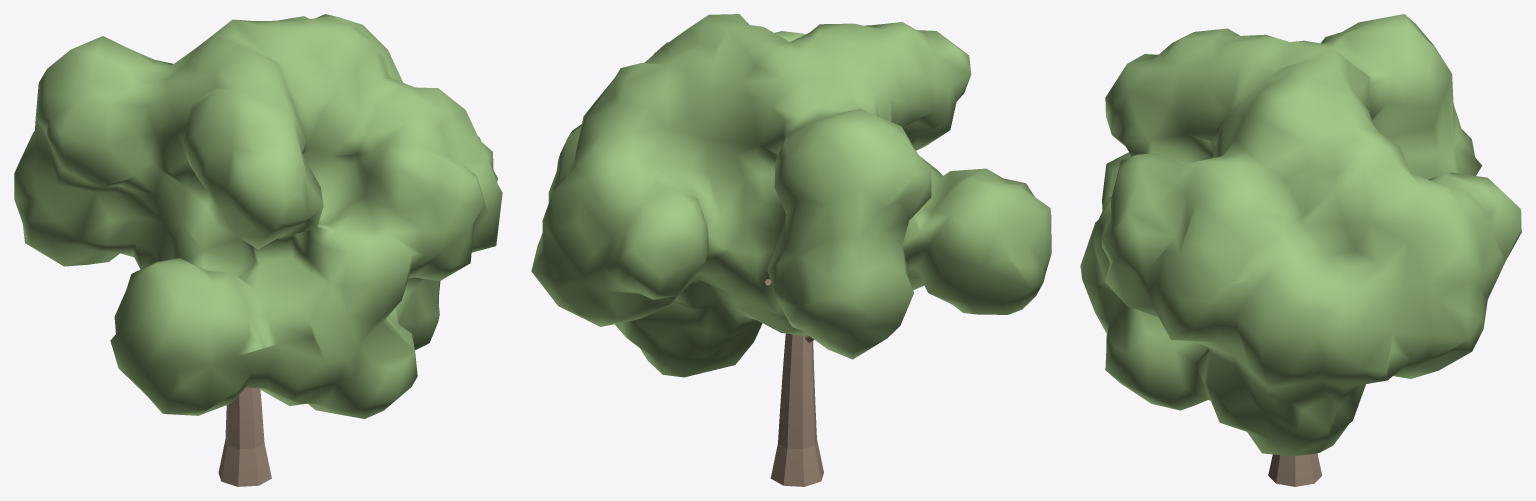
The model's file is tree_beech.glb.
3 views of the same model, side by side, from view 1: azimuth 30°, elevation 25°; view 2: azimuth 150°, elevation 25°; view 3: azimuth 270°, elevation 25° (orthographic). The views are drawn at different scales.
Parts seen in each view (by area): view 1: tree_beech; view 2: tree_beech; view 3: tree_beech.
Part boxes in pixels (x1,y1,x2,y2): tree_beech: (14,14,502,486); tree_beech: (531,14,1051,486); tree_beech: (1080,14,1521,486).
Bounding box in the file's own units: 9.09 × 9.1 × 8.44.
